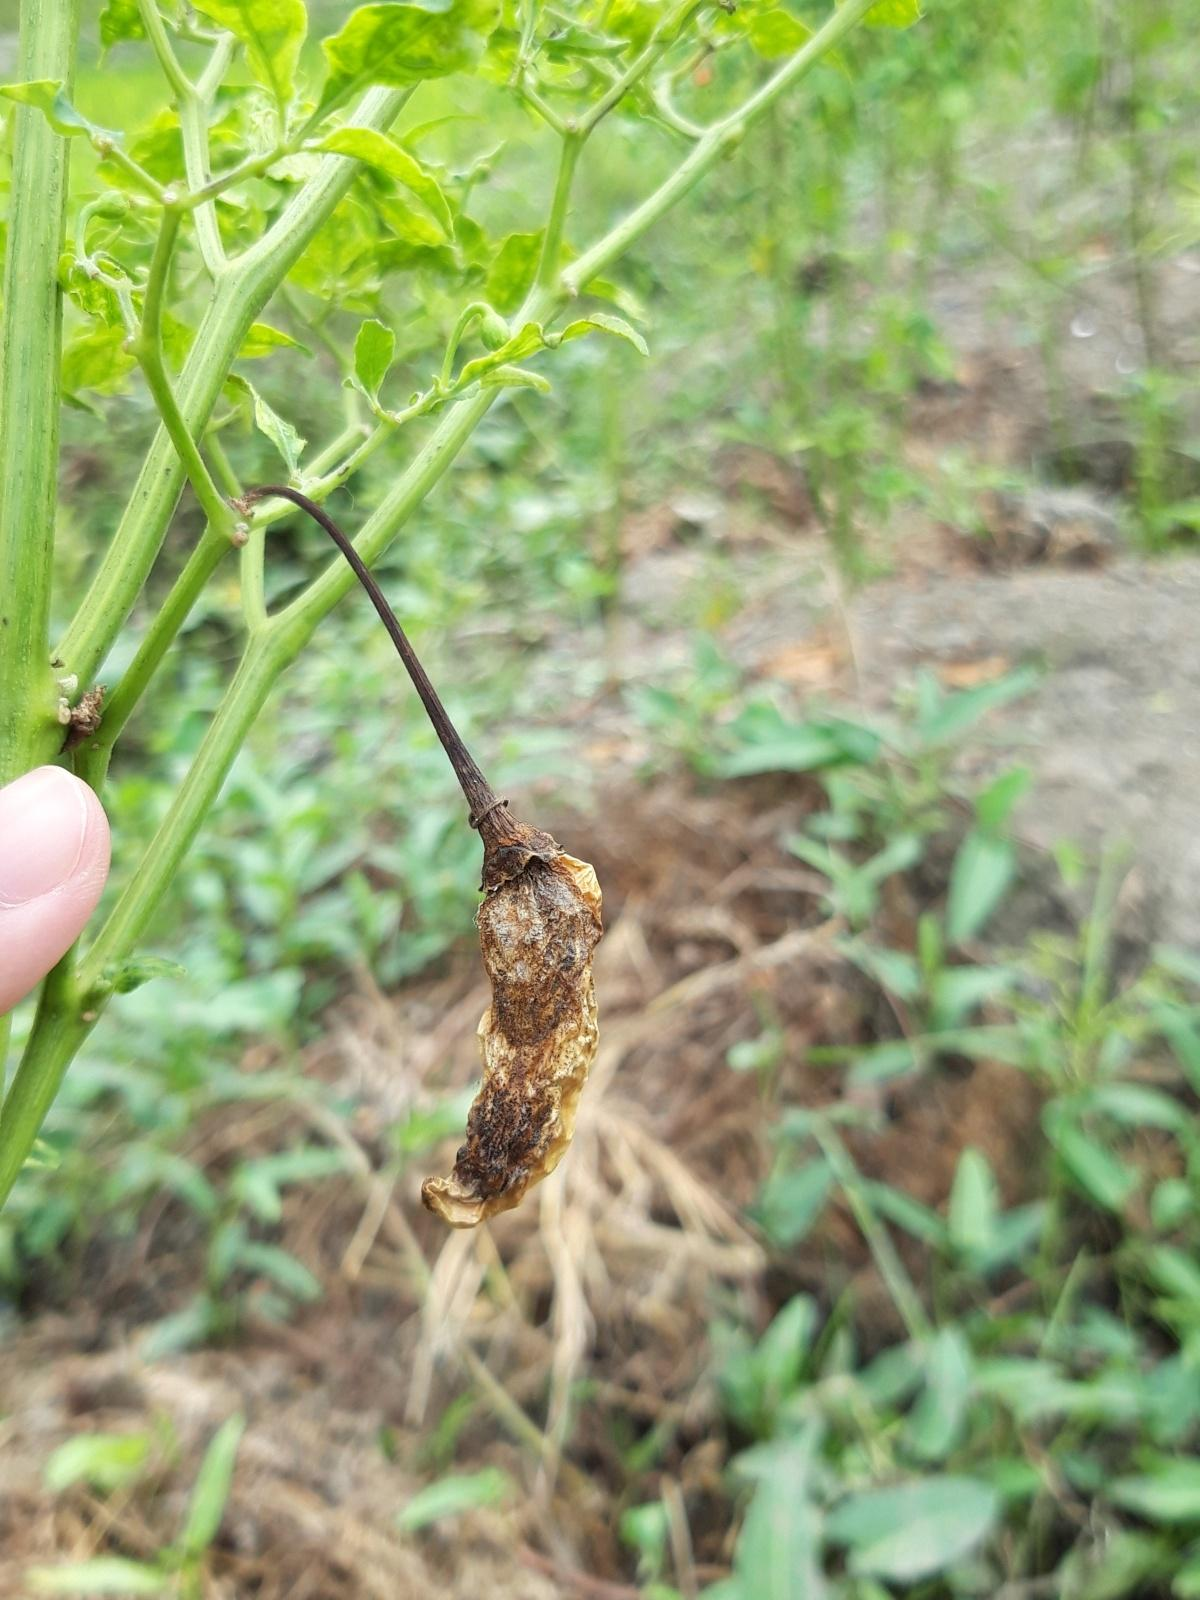antraknosa: (420, 824, 603, 1228)
